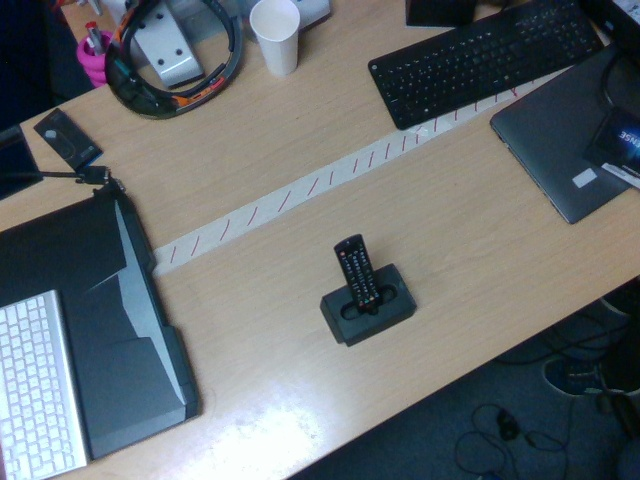remote: (334, 235, 384, 314)
